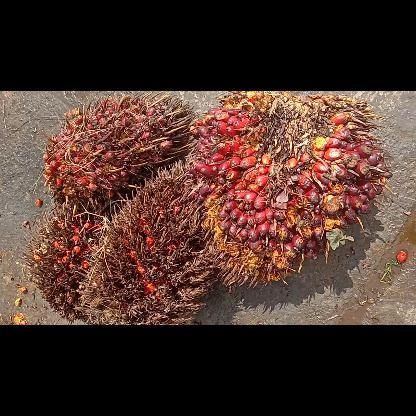TBS masak: (186, 91, 392, 287), (42, 90, 196, 209)
Terlalu masak: (80, 160, 218, 324), (21, 204, 108, 324)
